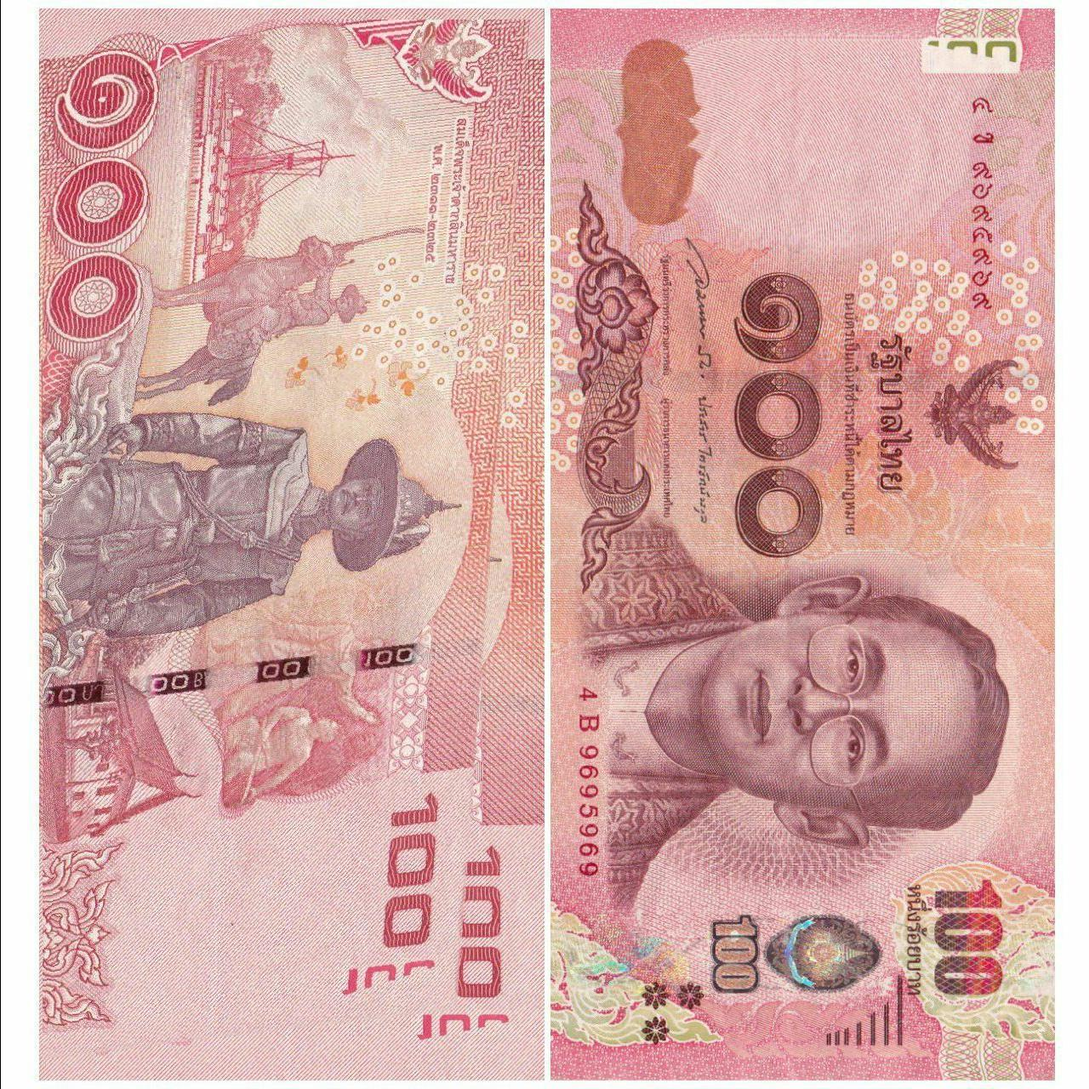100BahtTai: (42, 20, 535, 1068)
